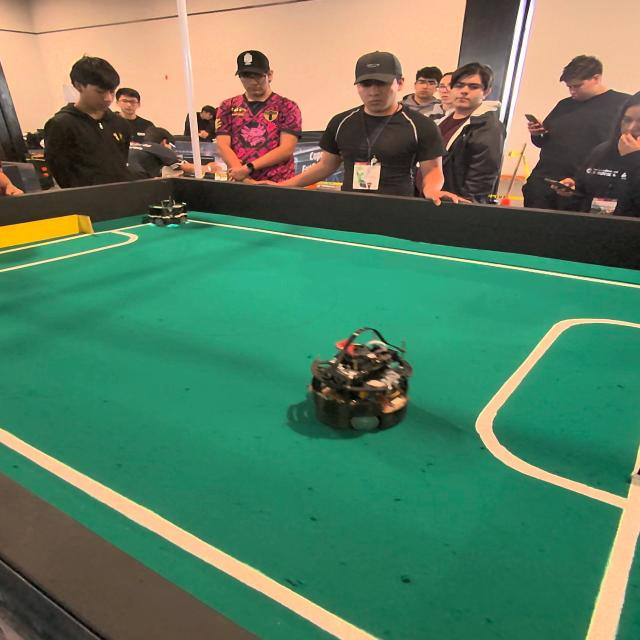Robot: (311, 324, 413, 442), (148, 178, 195, 236)
